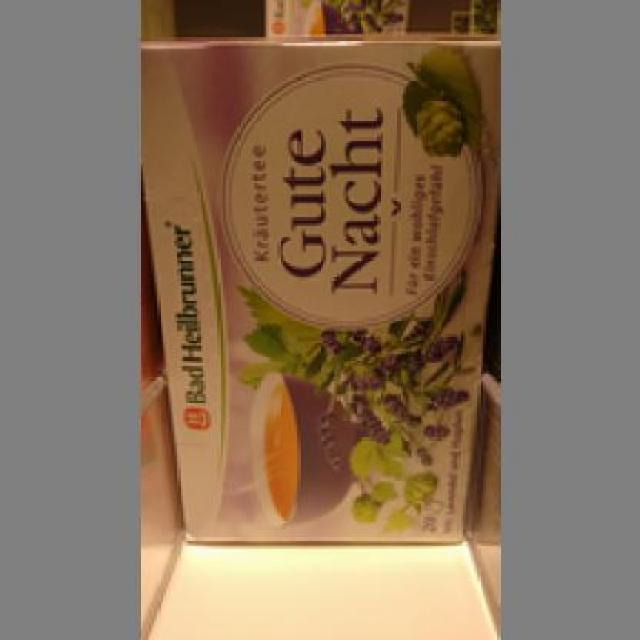Tea: (140, 31, 494, 546)
